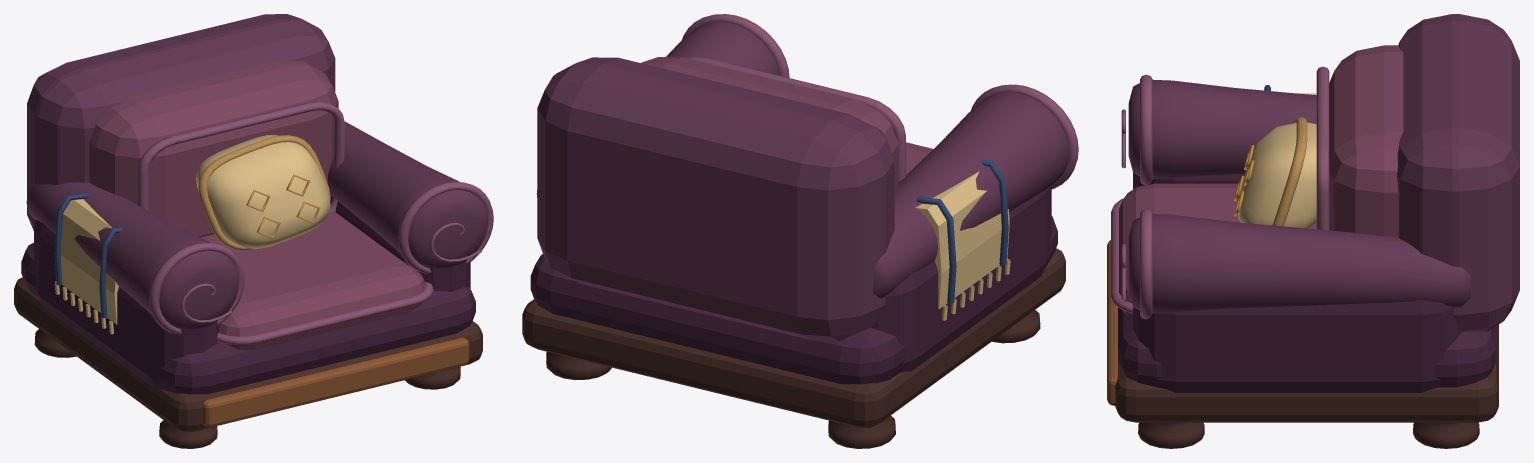
The model's file is living-sofa.glb.
3 views of the same model, side by side, from view 1: azimuth 30°, elevation 25°; view 2: azimuth 150°, elevation 25°; view 3: azimuth 270°, elevation 25° (orthographic). The views are drawn at different scales.
Visible parts, largest first — view 1: living_sofa_pivot_Mesh; view 2: living_sofa_pivot_Mesh; view 3: living_sofa_pivot_Mesh.
Part boxes in pixels (x1=…): living_sofa_pivot_Mesh: x1=14, y1=14, x2=493, y2=448; living_sofa_pivot_Mesh: x1=522, y1=14, x2=1078, y2=448; living_sofa_pivot_Mesh: x1=1107, y1=14, x2=1519, y2=448.
Size of the model in its own units: 1.72 by 1.28 by 1.62.
